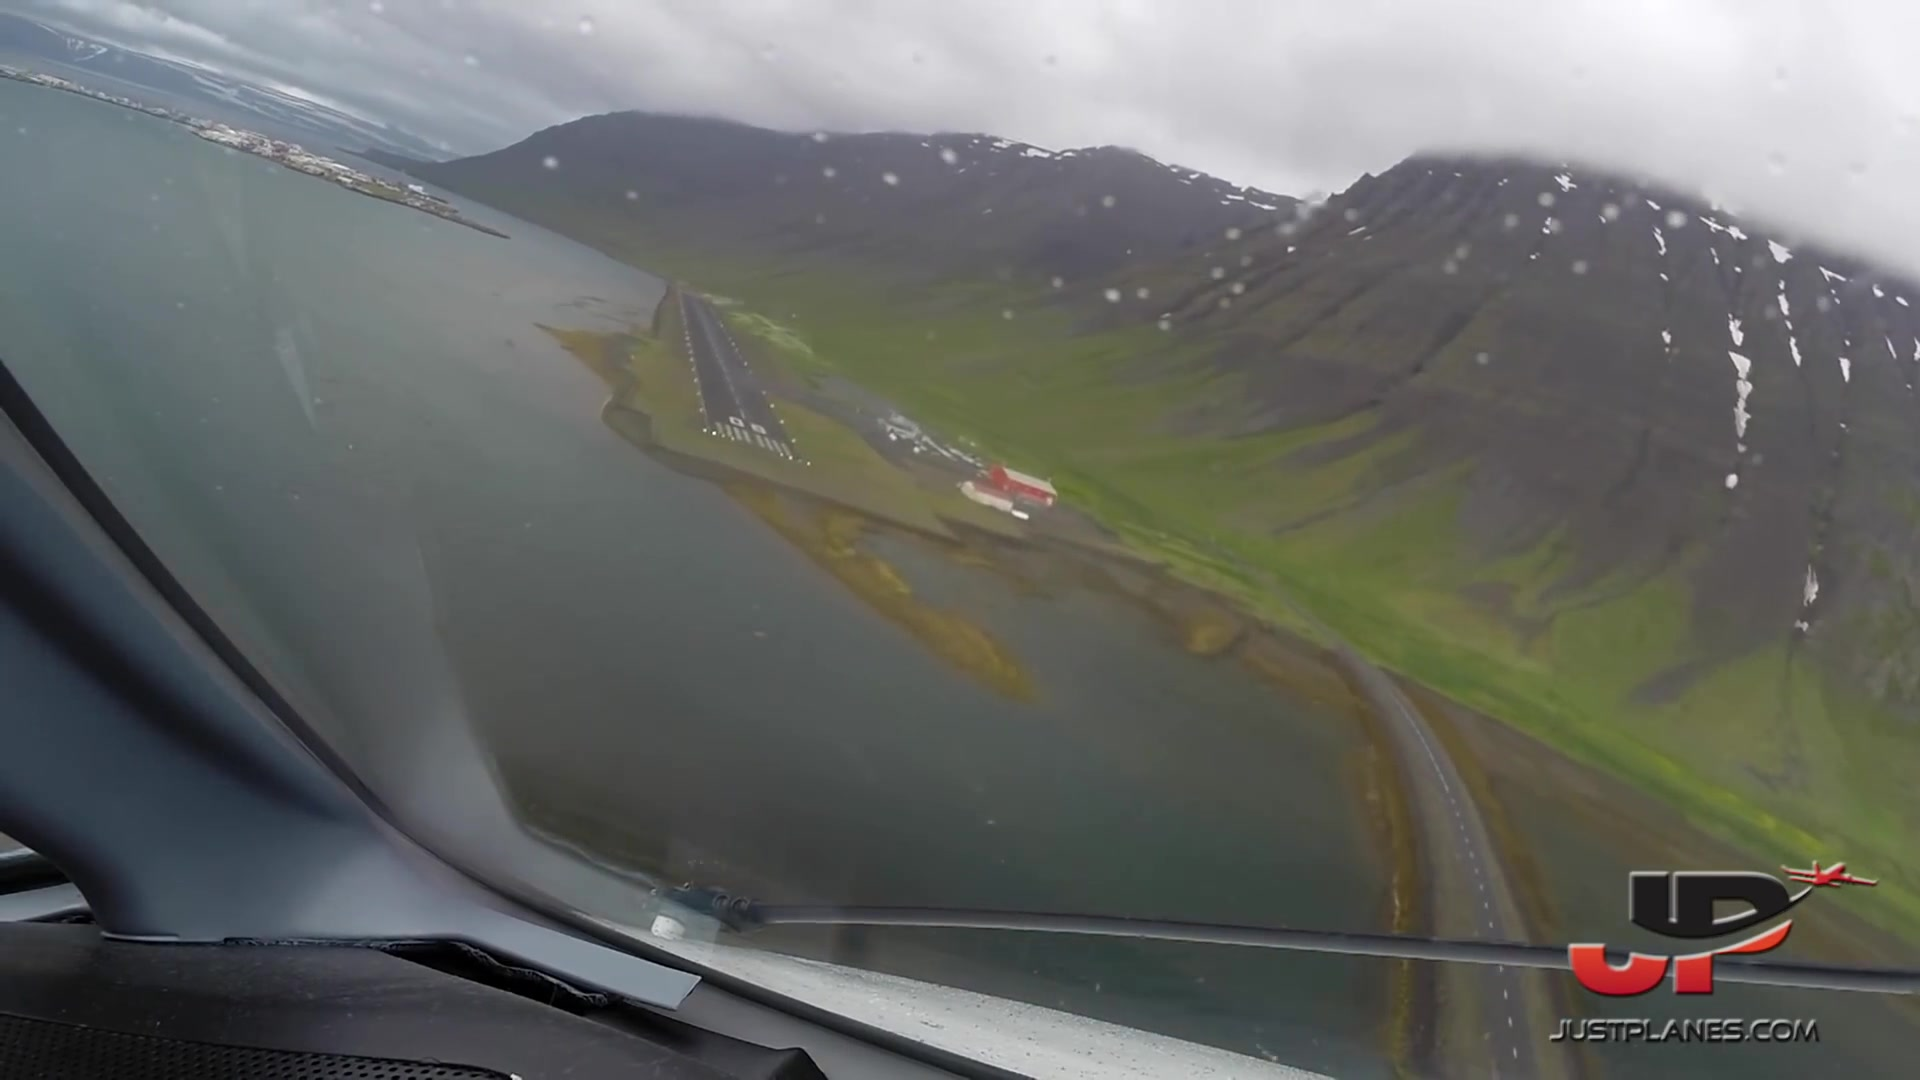entrance: (713, 422, 791, 459)
runway: (676, 291, 814, 469)
